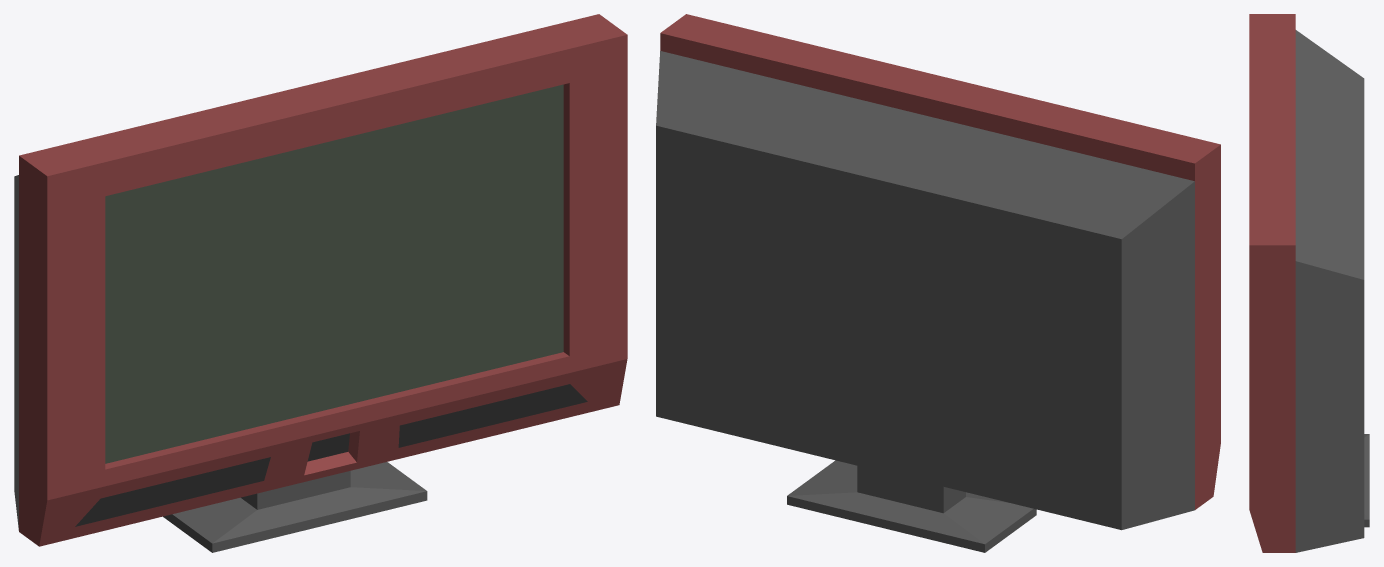
File: TelevisionSet15.fbx
3 views of the same model, side by side, from view 1: azimuth 30°, elevation 25°; view 2: azimuth 150°, elevation 25°; view 3: azimuth 270°, elevation 25° (orthographic). The views are drawn at different scales.
Parts seen in each view (by area): view 1: Cube.001; view 2: Cube.001; view 3: Cube.001.
Boxes of the visible parts, x1,y1,x2,y2 form: Cube.001: [14, 14, 627, 552]; Cube.001: [656, 14, 1220, 552]; Cube.001: [1249, 14, 1369, 552].
Bounding box in the file's own units: 1.6 × 1.14 × 0.3507.
